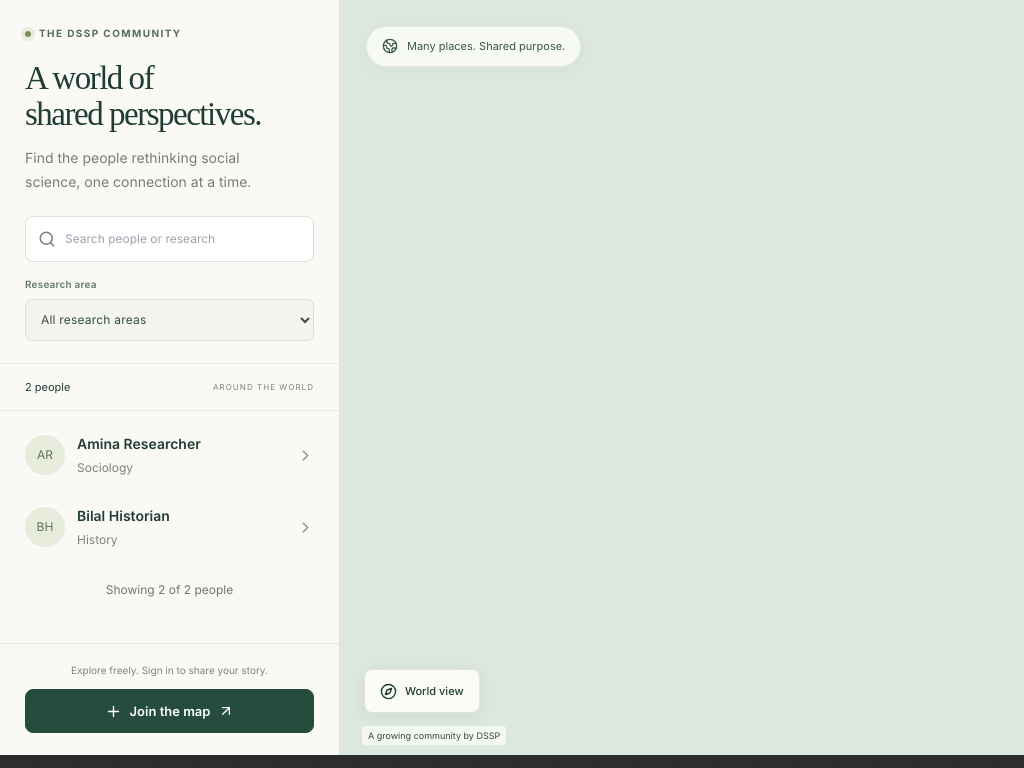
Test: community map interactions › keeps all pins in one map source and preserves identity after filtering
Expected: the button "AR Amina Researcher Sociology" is shown, [13,419,326,491]
Select "History" in the dropdown labelled "Research area" at (170, 320), box [25,299,314,341]
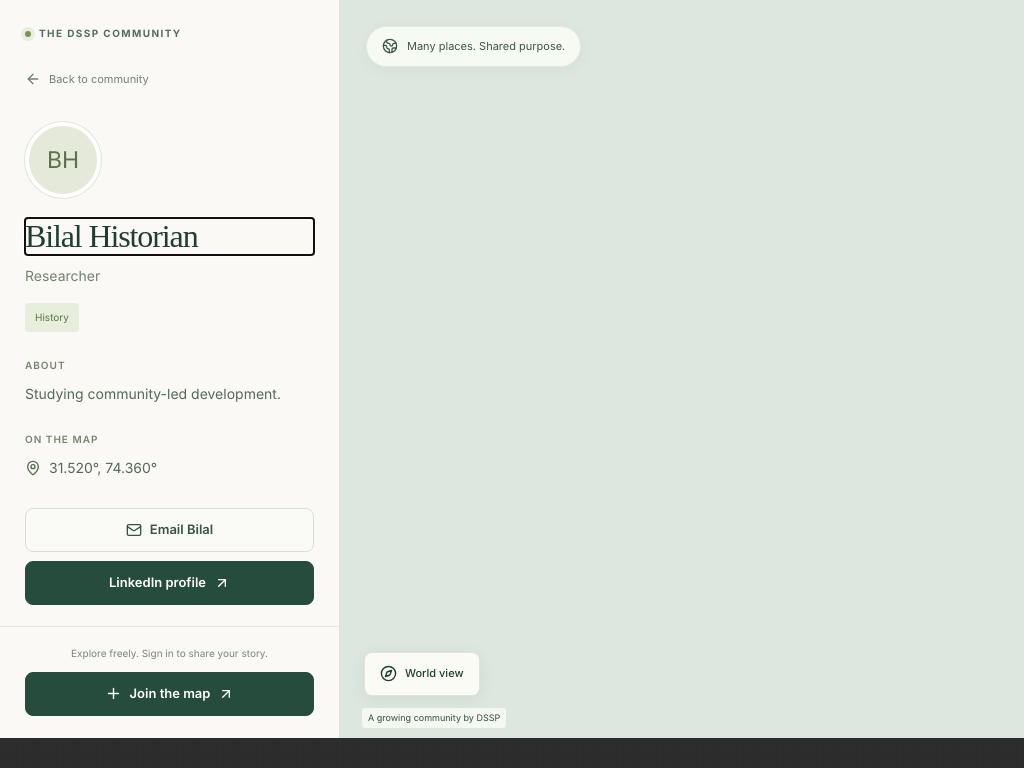
Expected: the heading "Bilal Historian" is shown, [25,218,198,254]
Now the button "Amina Researcher" is gone
